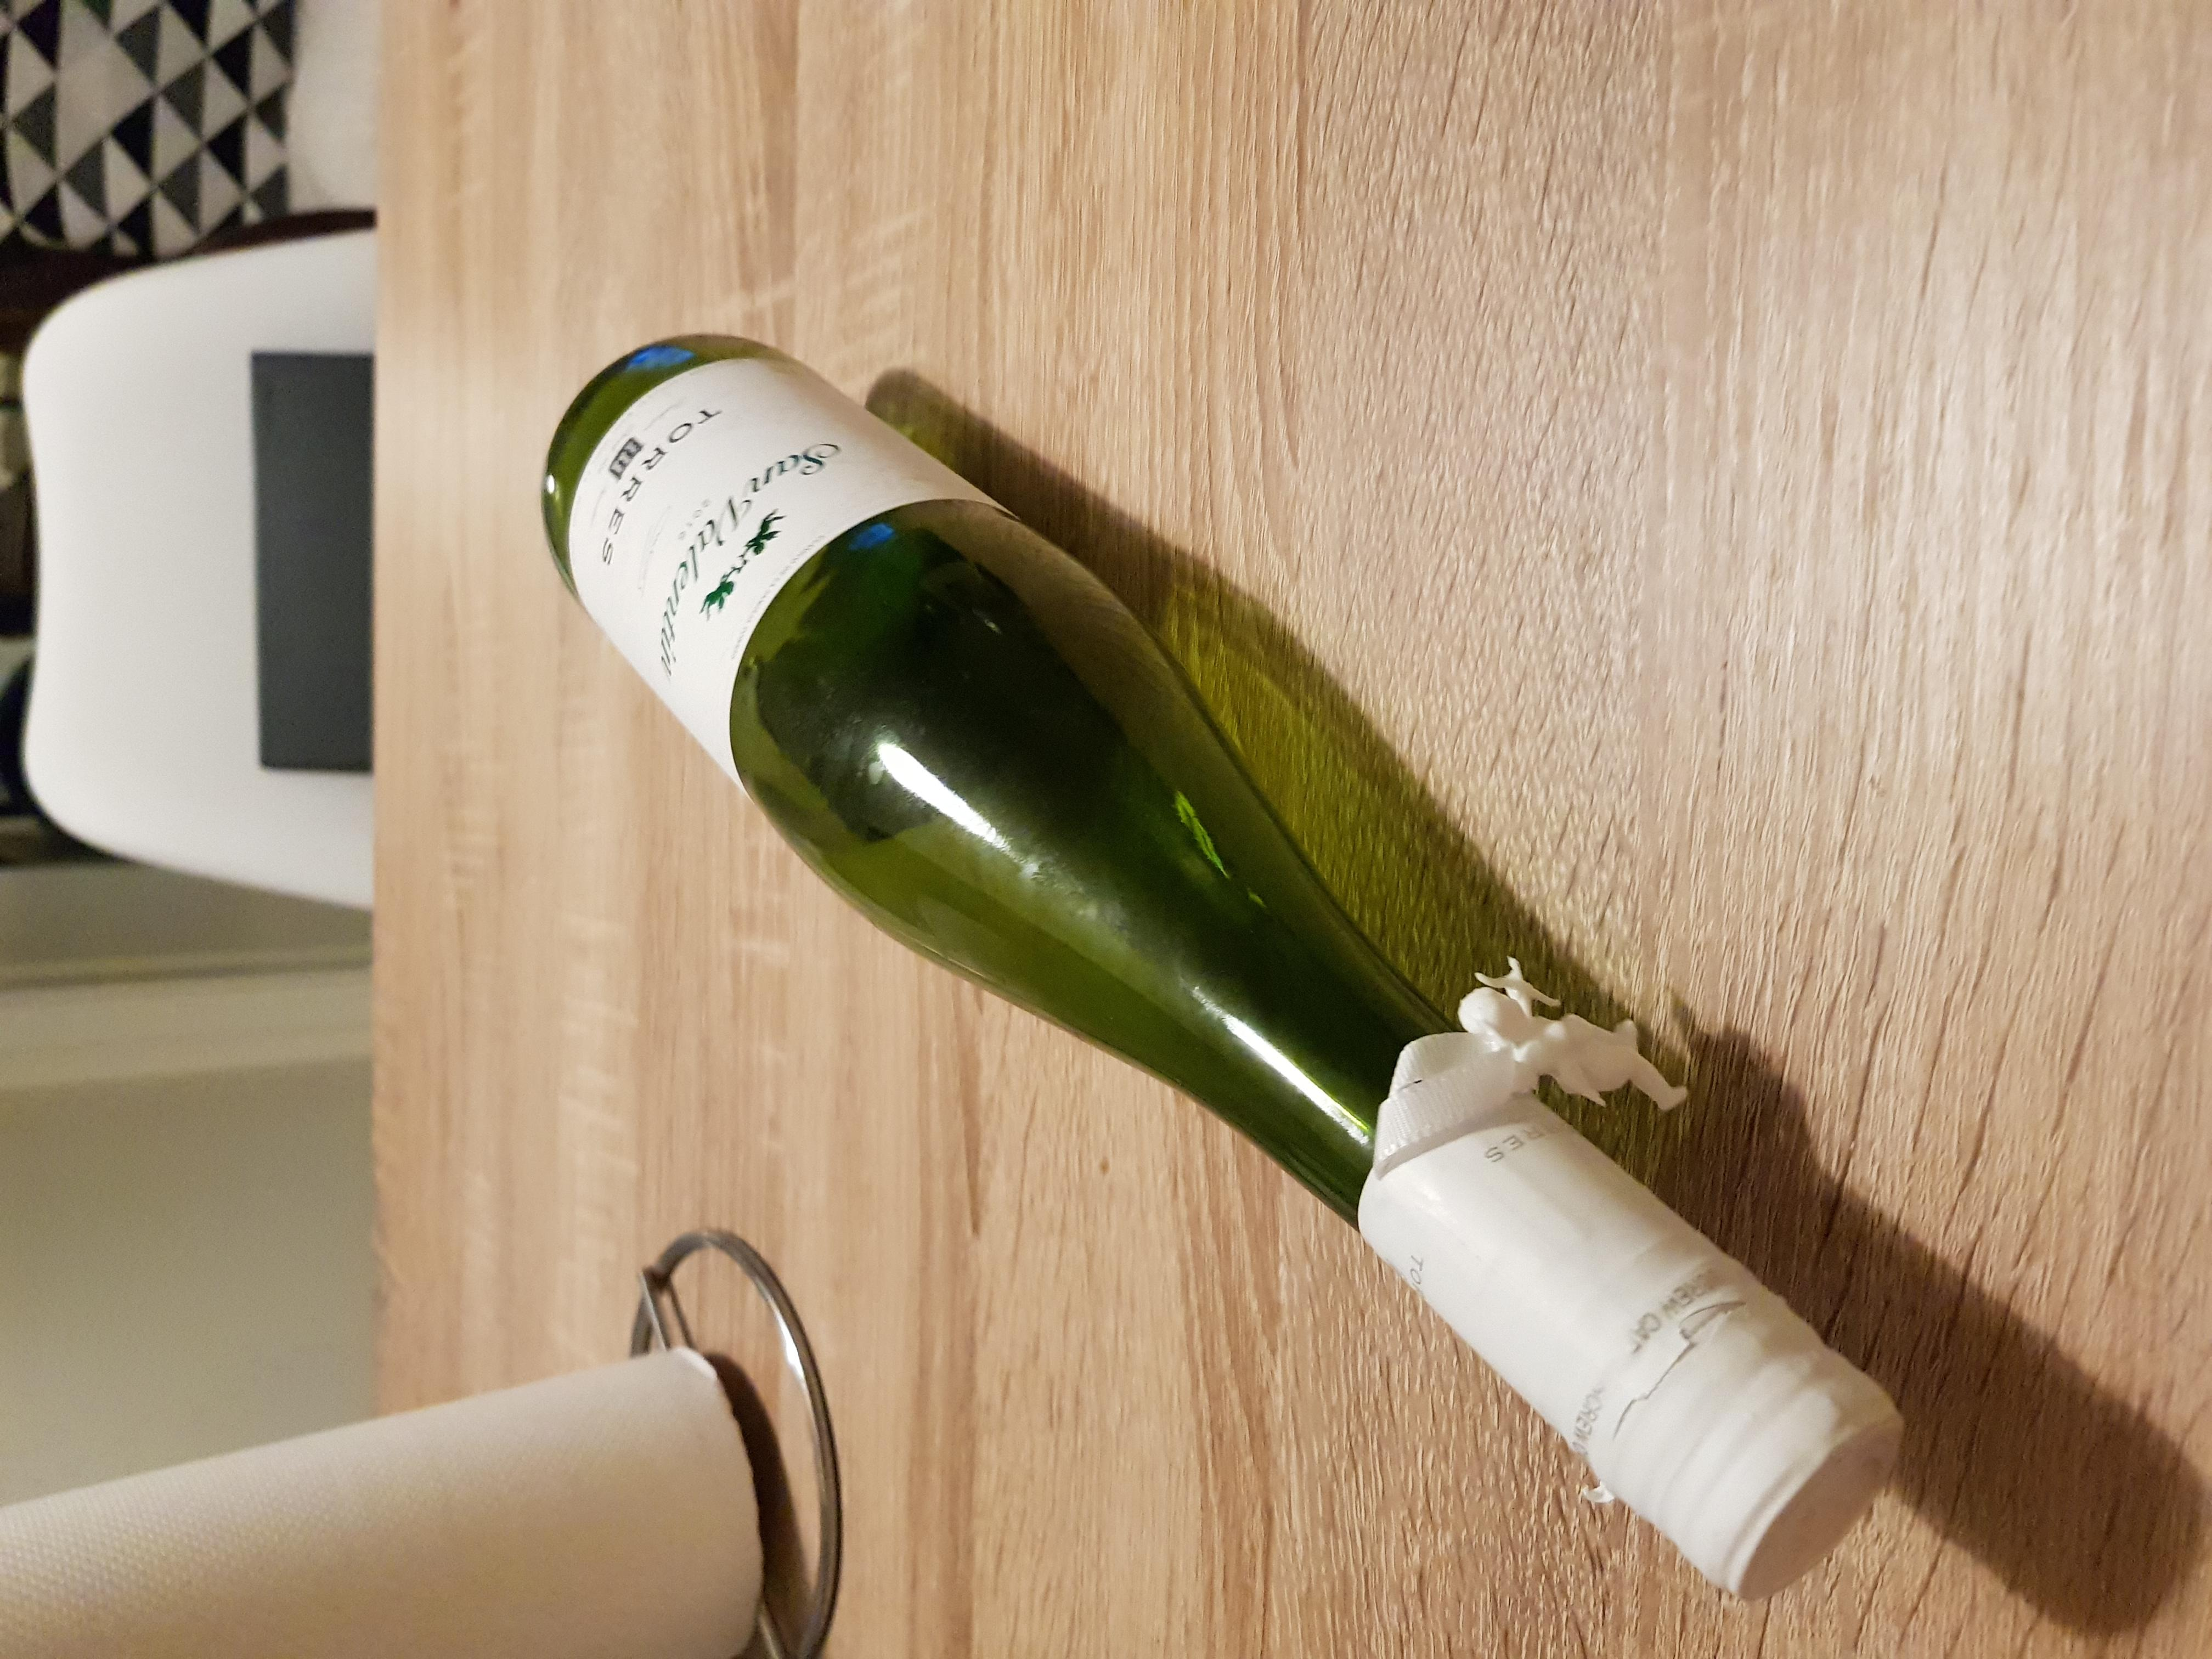Bottle: (540, 329, 1902, 1598)
